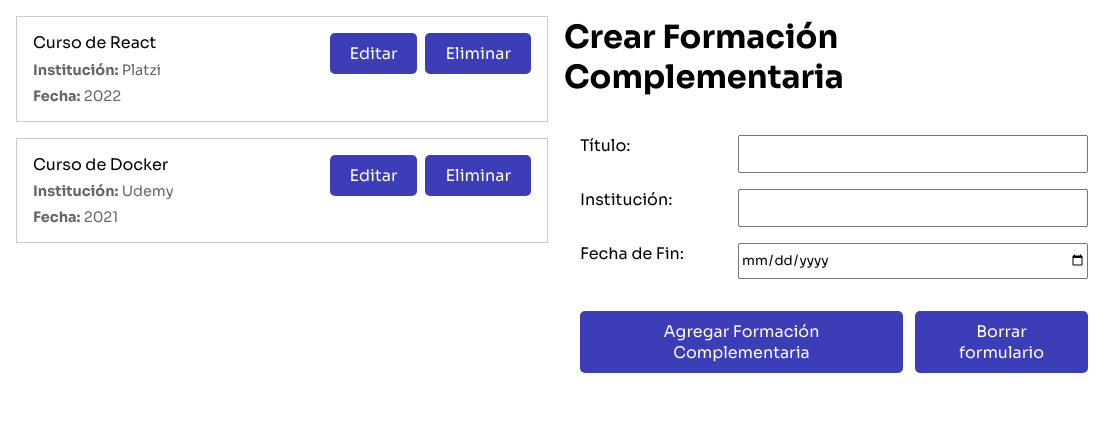
<FormacionComplementaria /> › si api.delete falla la Card sigue en el listado y avisa del error
Click the button "Eliminar" in the row of "Platzi": (478, 54) x1=426 y1=33 x2=531 y2=74
Wait 1000 ms
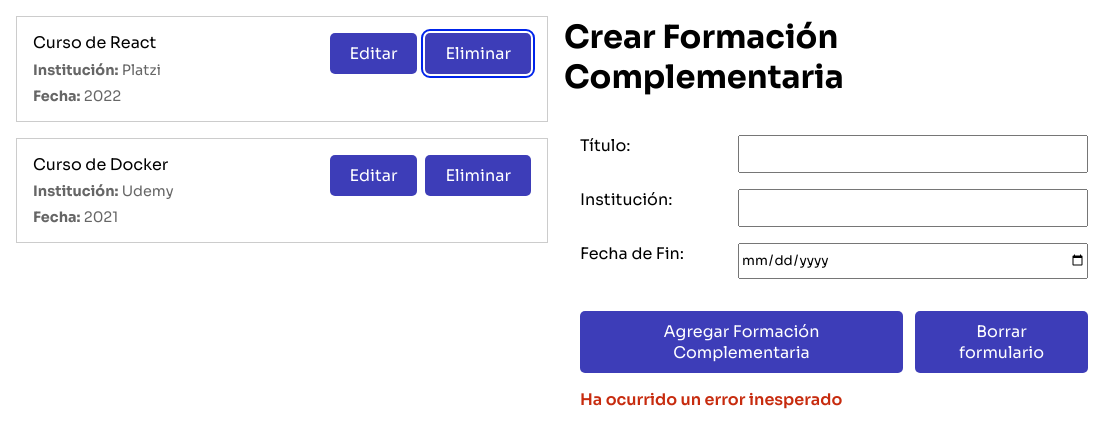
Check: the text "Curso de React" is shown, box x1=33 y1=33 x2=161 y2=53
Check: the text "Ha ocurrido un error inesperado" is shown, box x1=580 y1=389 x2=842 y2=410
